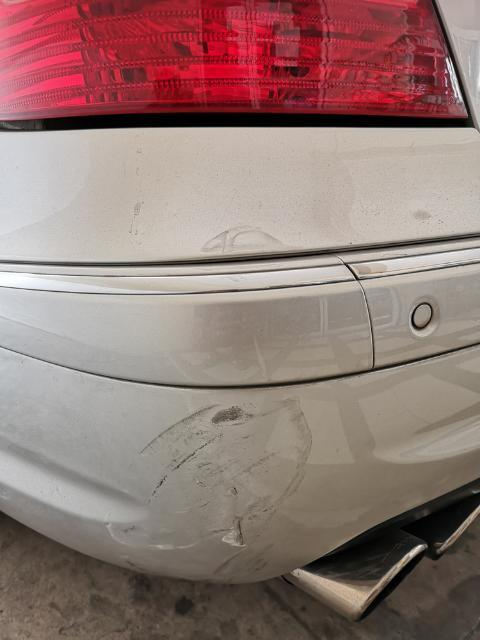scratch: (109, 399, 323, 568)
